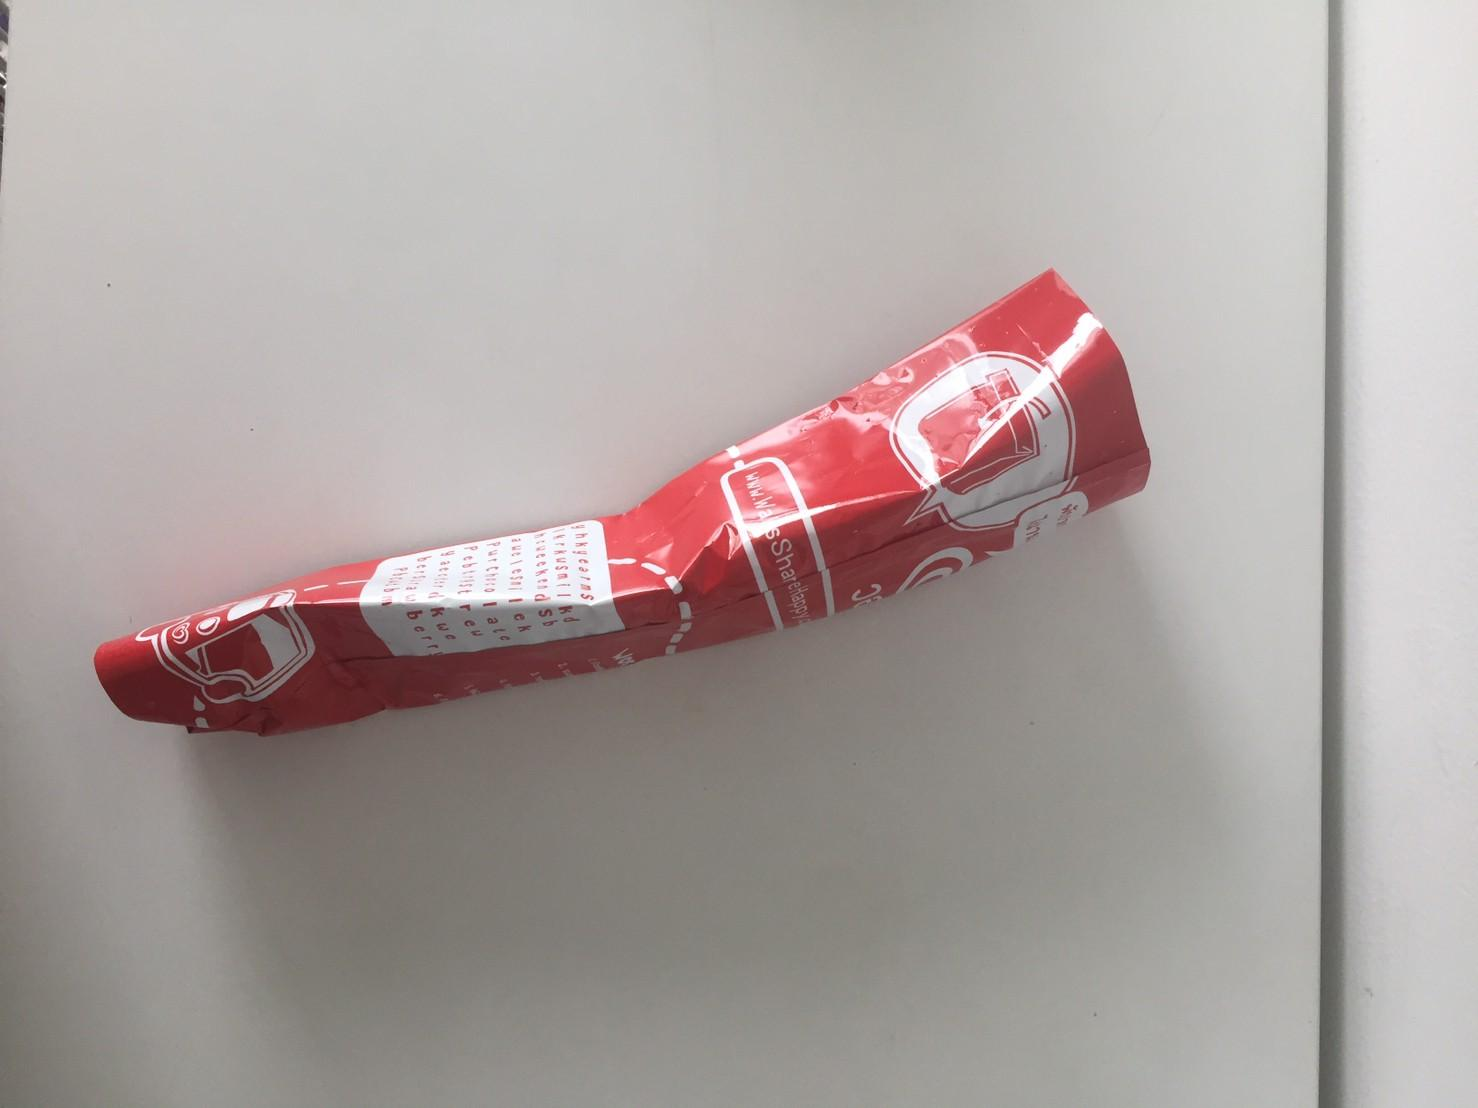plastic: (86, 263, 1188, 794)
